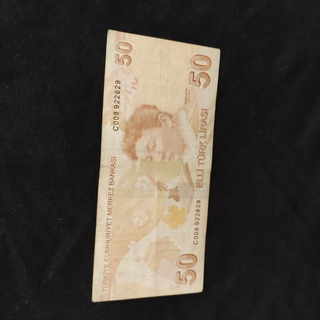50TLBack: (91, 28, 221, 303)
